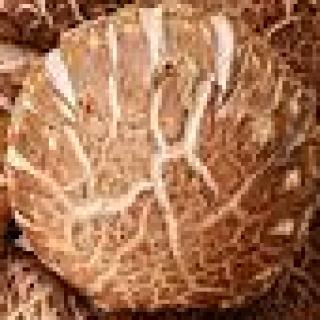mushroom: (0, 4, 320, 320)
